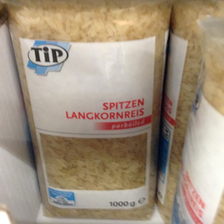rice: (4, 1, 170, 220)
